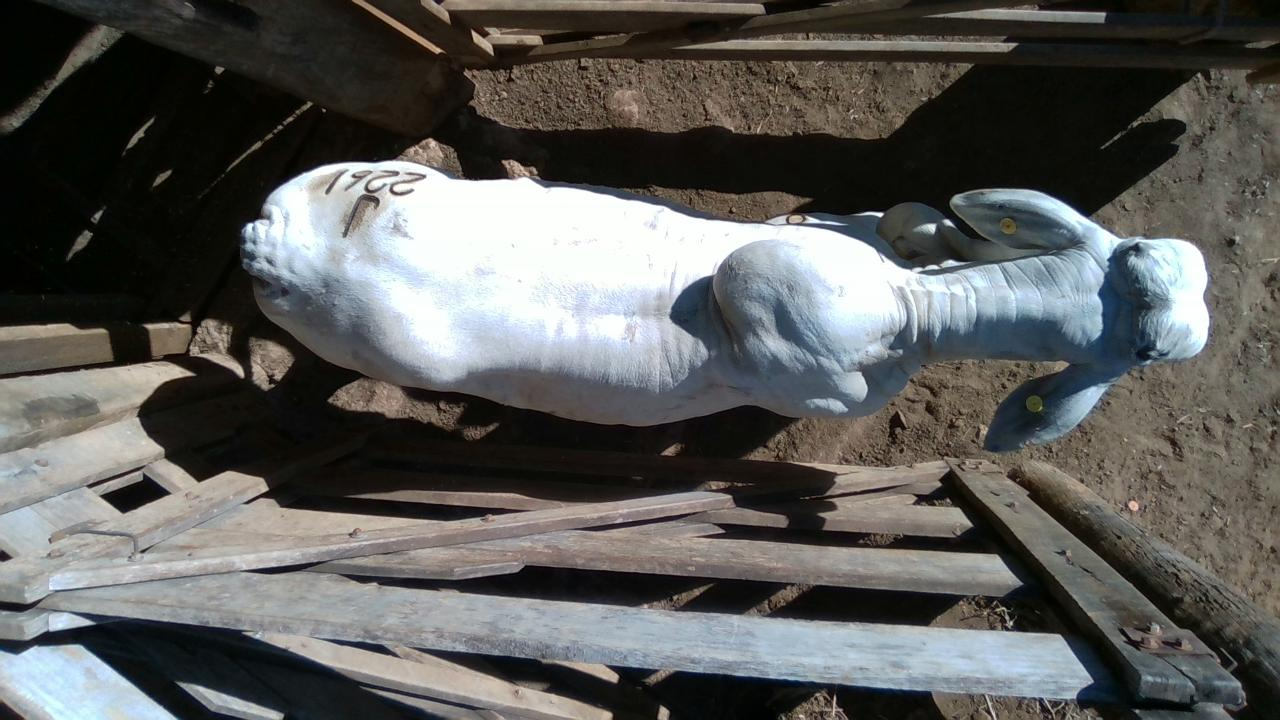cattle: (238, 157, 1210, 453)
